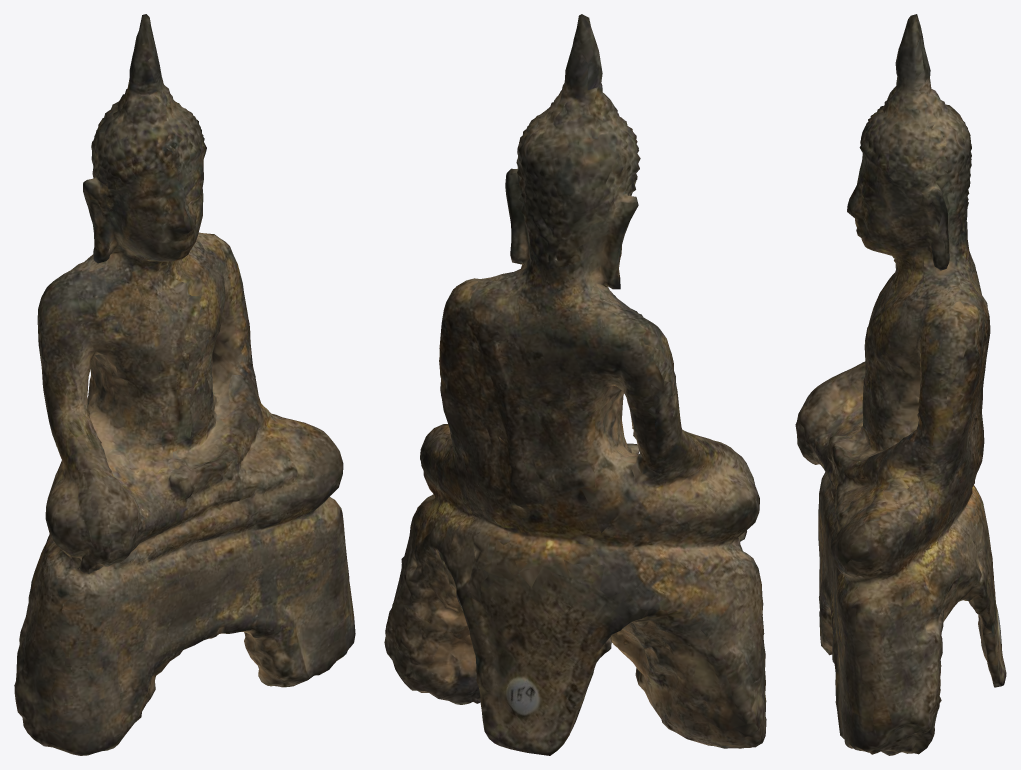
The picture shows the model from 3 angles, left to right: view 1: azimuth 30°, elevation 25°; view 2: azimuth 150°, elevation 25°; view 3: azimuth 270°, elevation 25°; orthographic projection. The views are drawn at different scales.
Parts seen in each view (by area): view 1: statue-045; view 2: statue-045; view 3: statue-045.
Boxes of the visible parts, x1,y1,x2,y2 form: statue-045: [14, 14, 355, 755]; statue-045: [384, 14, 766, 755]; statue-045: [795, 14, 1006, 755].
Size of the model in its own units: 0.5162 by 0.999 by 0.282.
Materials: 1 (1 with a texture image).
